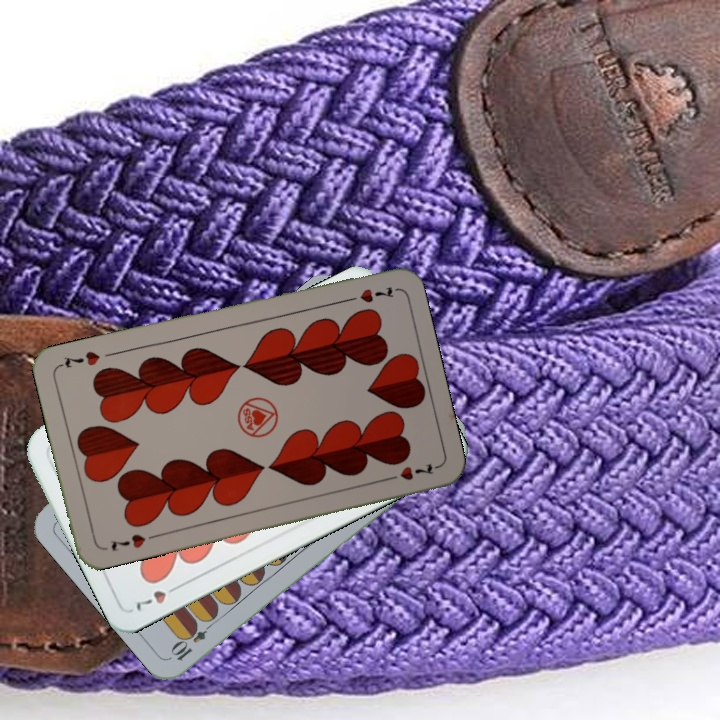E10: (167, 616, 218, 664)
H7: (132, 580, 184, 614), (339, 282, 396, 306), (106, 530, 148, 554)
